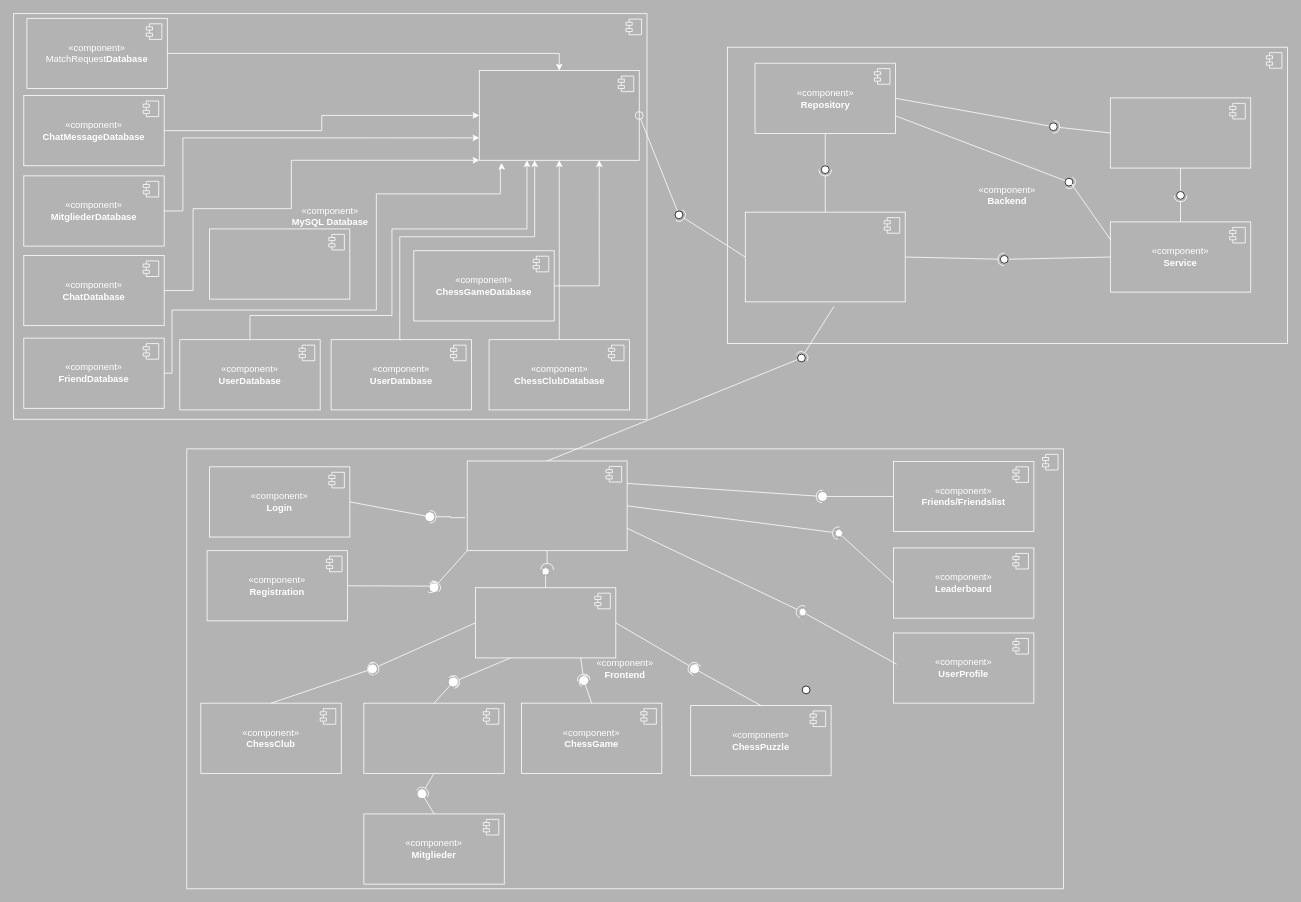
Image size: 1301x902. Some labels were removed from this diagram. The shapes that lost their labels are listed below. From the top down, each one's centre as x and y in pixels, then its label:
At point 559,115: "«component» Database".
At point 1180,132: "«component» ServiceImplementation".
At point 279,263: "«component» PictureDatabase".
At point 825,256: "«component» RestService/Controller".
At point 546,505: "«component» WebService".
At point 545,622: "«component» HomePage".
At point 433,737: "«component» Chat".
